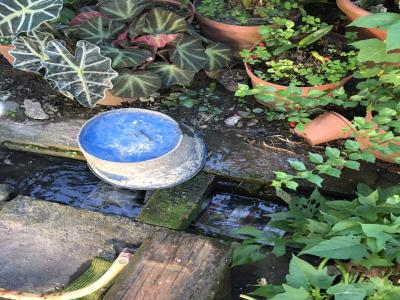bucket: (75, 103, 209, 194)
